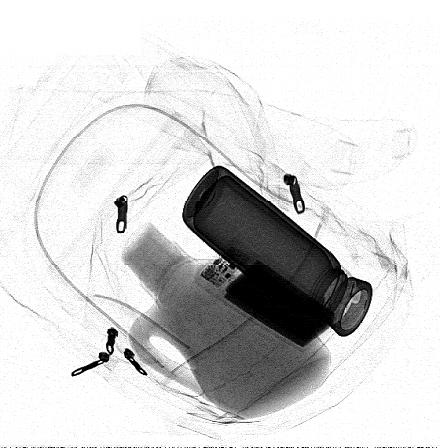Powerbank: (193, 238, 338, 353)
